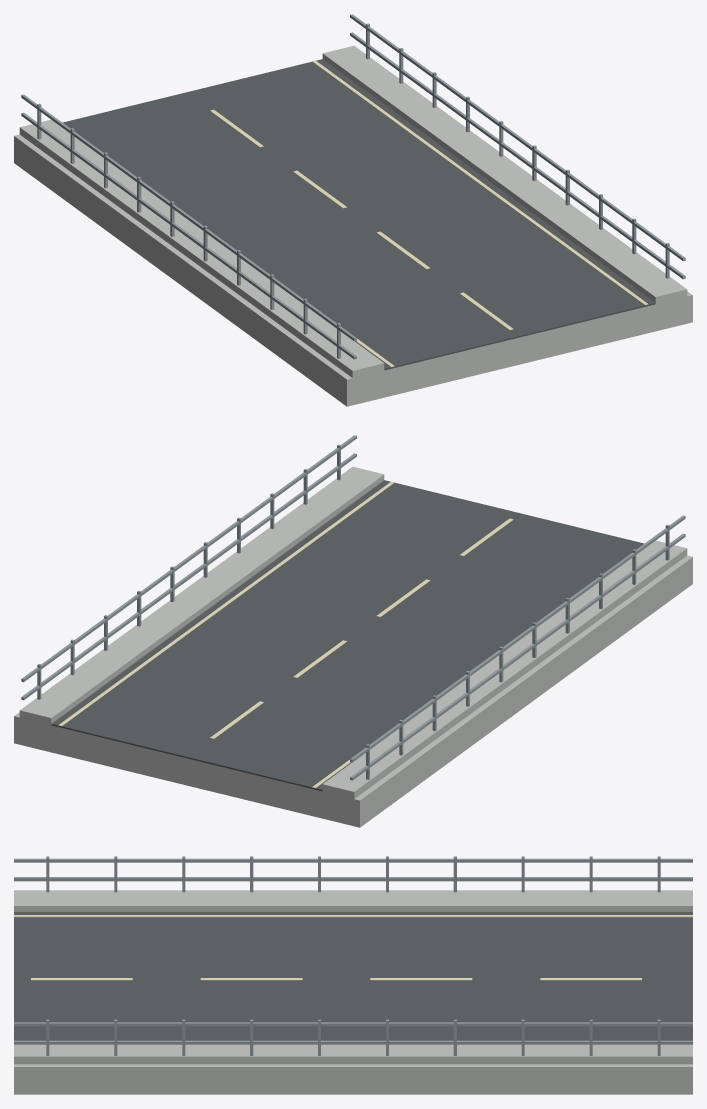
Rendered from deck_20m.glb.
The picture shows the model from 3 angles, top to bottom: view 1: azimuth 30°, elevation 25°; view 2: azimuth 150°, elevation 25°; view 3: azimuth 270°, elevation 25°; orthographic projection.
Parts seen in each view (by area): view 1: deck_20m; view 2: deck_20m; view 3: deck_20m.
Part boxes in pixels (x1,y1,x2,y2): deck_20m: (14,14,692,406); deck_20m: (14,435,692,827); deck_20m: (14,856,692,1094).
Size of the model in its own units: 12 by 2.27 by 20.
